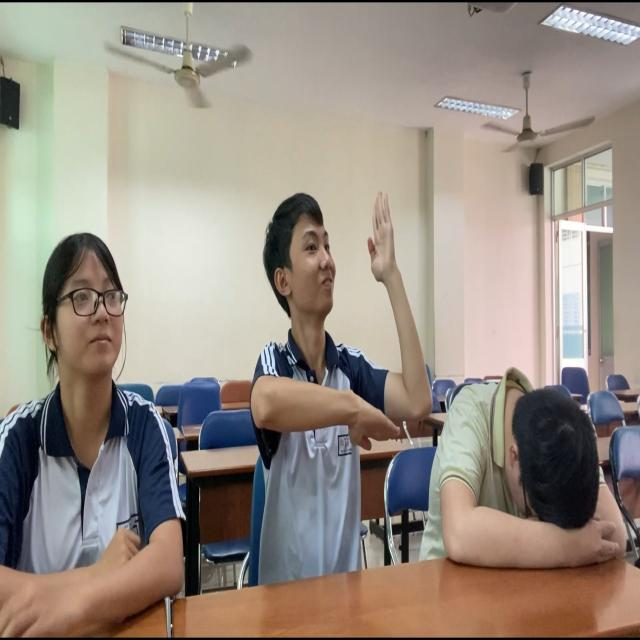raise_hand: (248, 189, 435, 586)
sleep: (431, 355, 633, 589)
